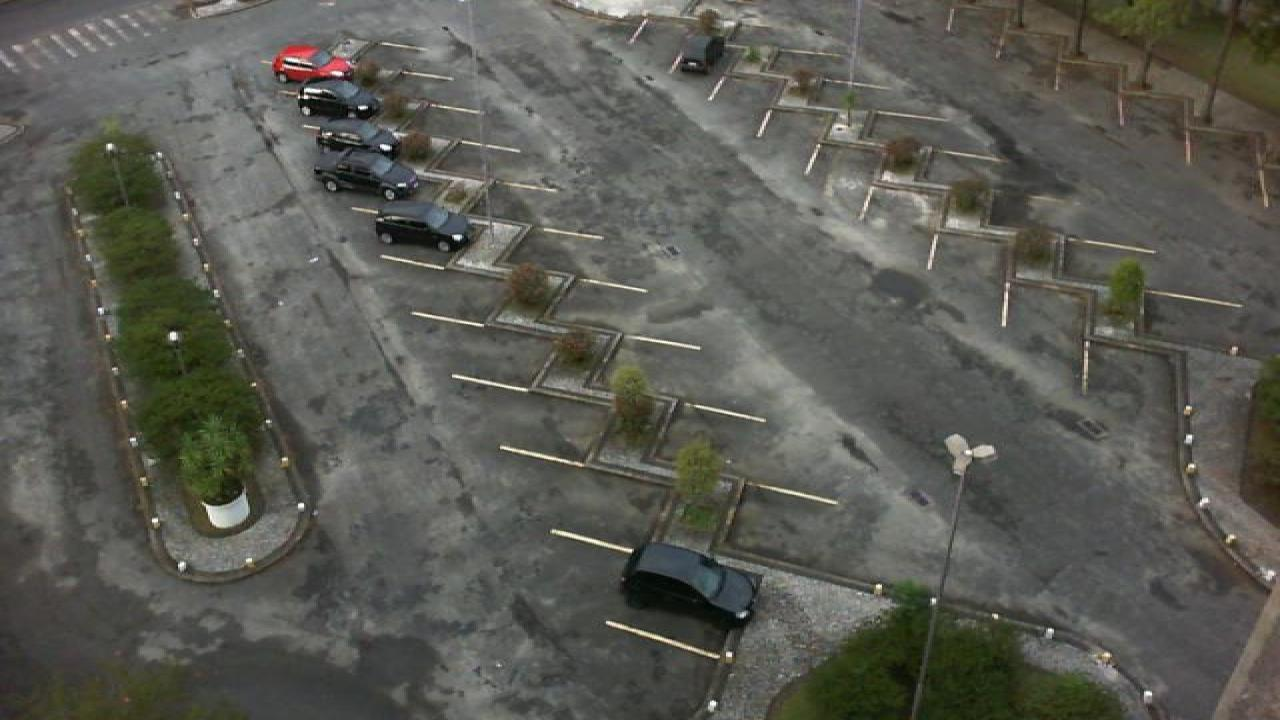Car: (620, 539, 764, 628), (372, 198, 476, 252), (314, 152, 424, 200), (310, 117, 404, 160), (294, 79, 384, 120), (270, 44, 358, 85), (674, 15, 728, 74)
